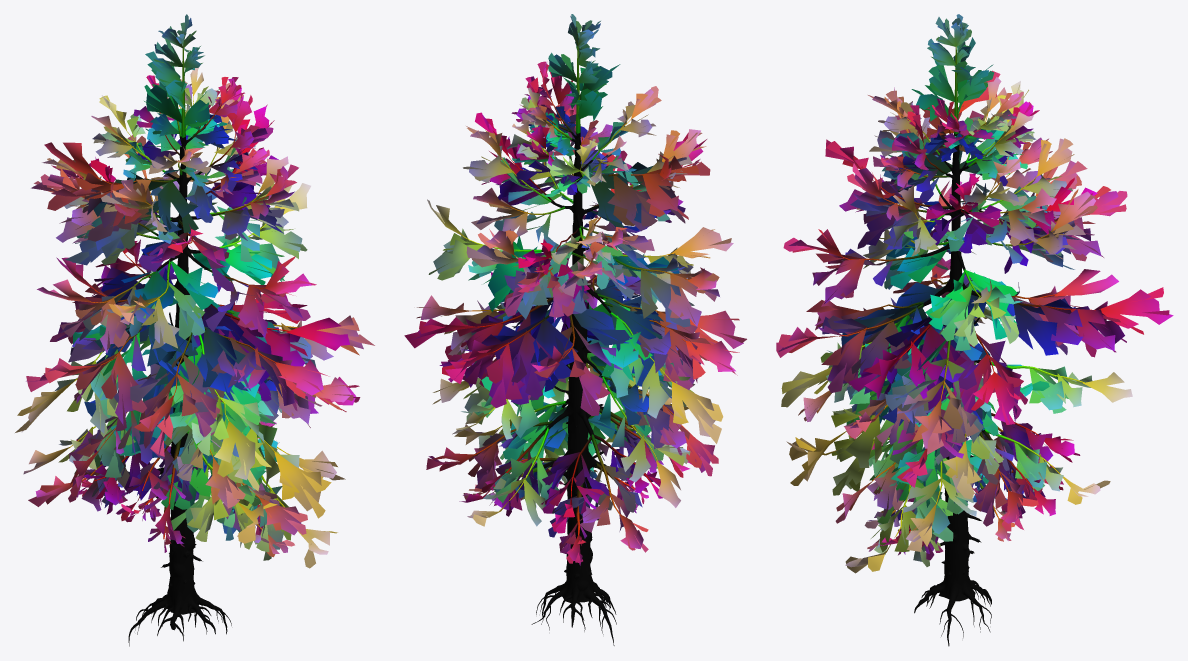
Rendered from SM_SilverFir_L_02.fbx.
3 renders of one model, left to right at view 1: azimuth 30°, elevation 25°; view 2: azimuth 150°, elevation 25°; view 3: azimuth 270°, elevation 25°, orthographic. The views are drawn at different scales.
Parts seen in each view (by area): view 1: SM_SilverFir_L_02_LOD0; view 2: SM_SilverFir_L_02_LOD0; view 3: SM_SilverFir_L_02_LOD0.
Part boxes in pixels (x1,y1,x2,y2): SM_SilverFir_L_02_LOD0: (15,14,374,646); SM_SilverFir_L_02_LOD0: (404,14,746,645); SM_SilverFir_L_02_LOD0: (776,14,1173,646).
Size of the model in its own units: 916 by 954 by 1624.
